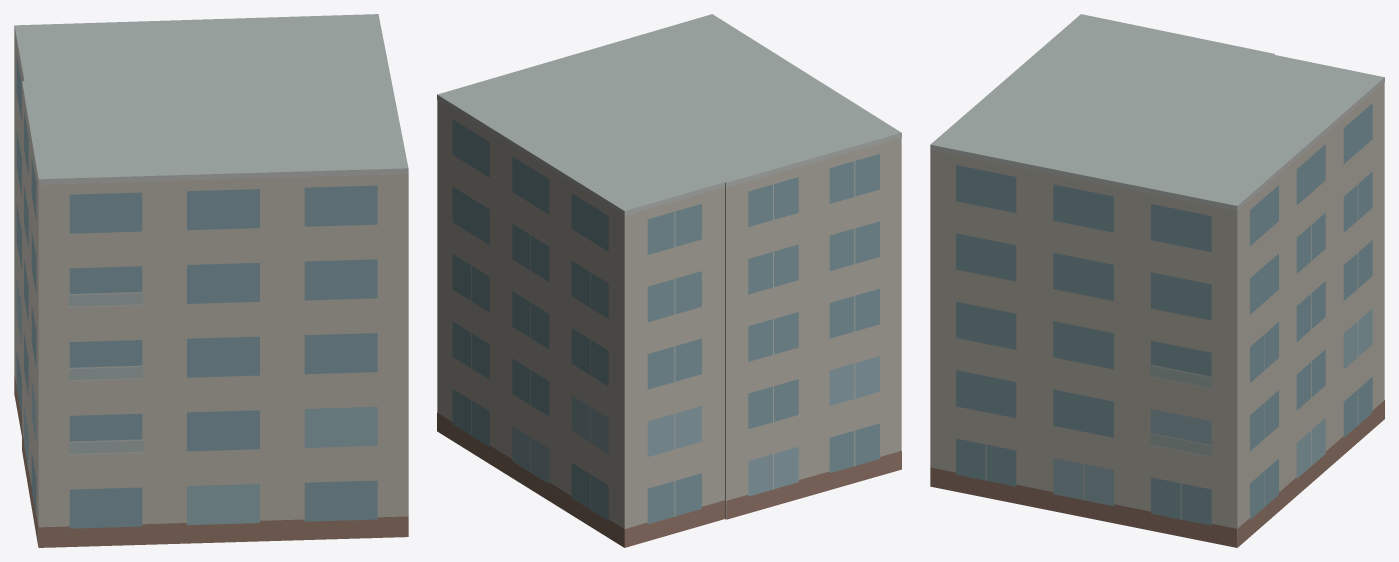
Rendered from survey-upis-32696215.glb.
3 renders of one model, left to right at view 1: azimuth 30°, elevation 25°; view 2: azimuth 150°, elevation 25°; view 3: azimuth 270°, elevation 25°, orthographic. The views are drawn at different scales.
Parts seen in each view (by area): view 1: survey-upis-32696215.tmp; view 2: survey-upis-32696215.tmp; view 3: survey-upis-32696215.tmp.
Boxes of the visible parts, box(x1,y1,x2,y2) form: survey-upis-32696215.tmp: box(14, 14, 408, 547); survey-upis-32696215.tmp: box(437, 14, 901, 547); survey-upis-32696215.tmp: box(930, 14, 1384, 547).
Bounding box in the file's own units: 19.88 × 16.5 × 19.89.
